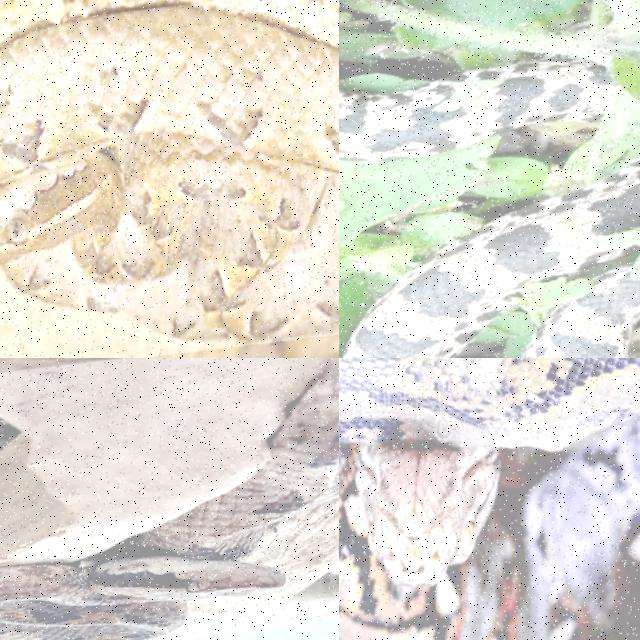Calloselasma rhodostoma: (0, 6, 338, 341), (0, 367, 338, 639)
Malayopython reticulatus: (339, 358, 639, 639)
Ovophis monticola: (344, 161, 639, 357)
snake: (0, 6, 338, 341), (0, 367, 338, 639), (339, 358, 639, 639), (344, 161, 639, 357)
